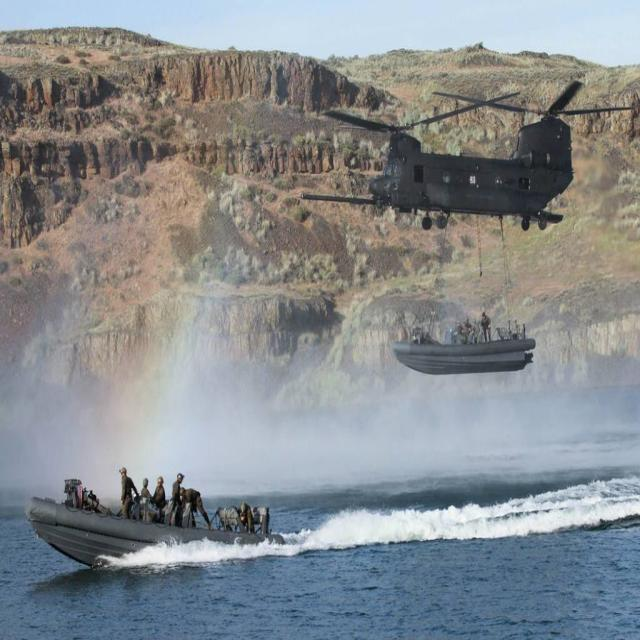Boat: (22, 473, 286, 572), (391, 326, 534, 374)
